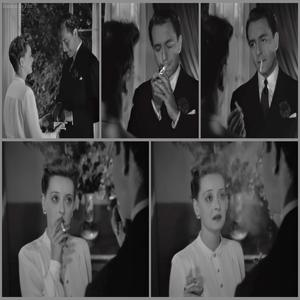cigarette: (180, 282, 198, 292), (257, 60, 264, 80), (58, 219, 67, 232)
